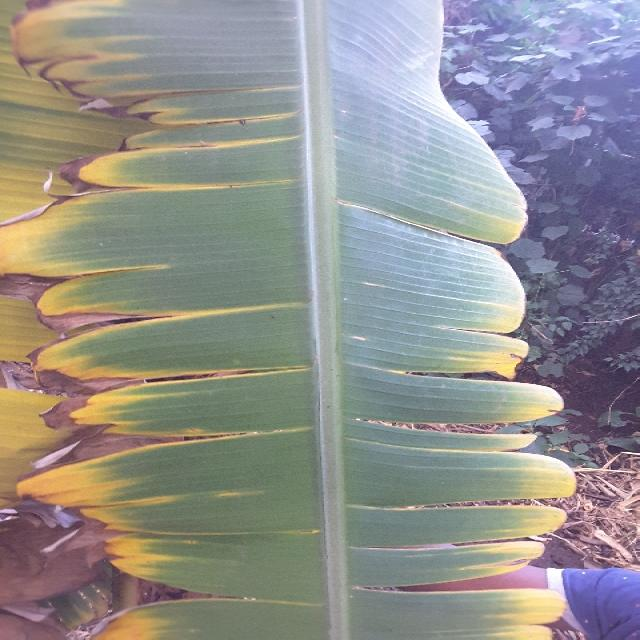Cordana: (0, 0, 312, 638), (369, 167, 582, 640)
